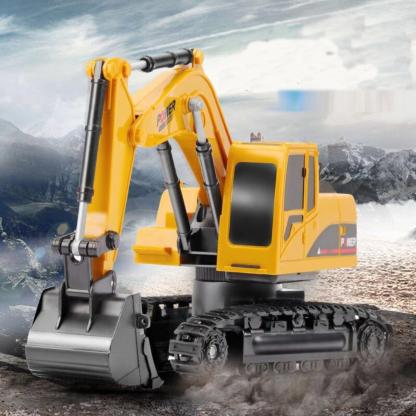excavator: (26, 31, 400, 390)
